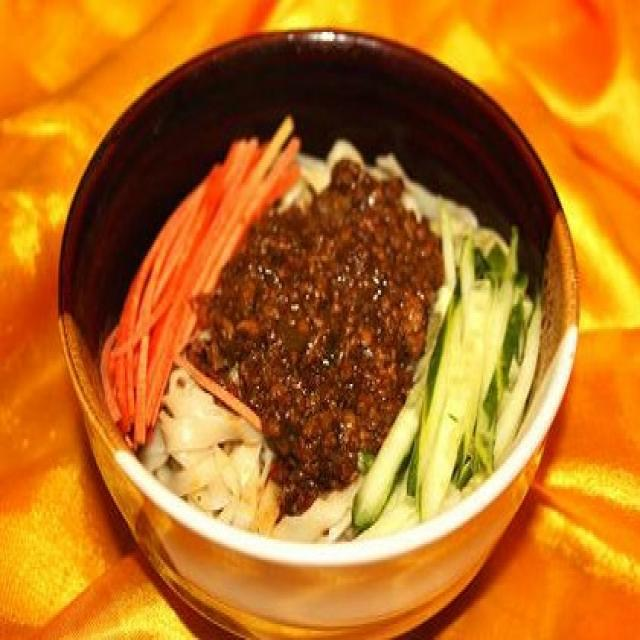面条主食: (47, 41, 591, 604)
